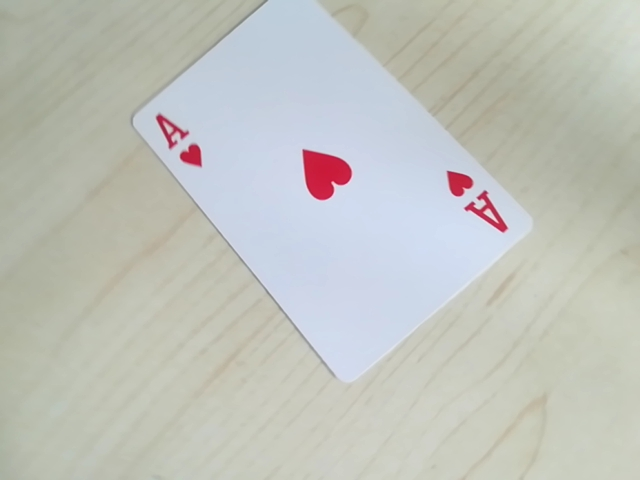hx a: (444, 164, 516, 239), (147, 107, 211, 174)
